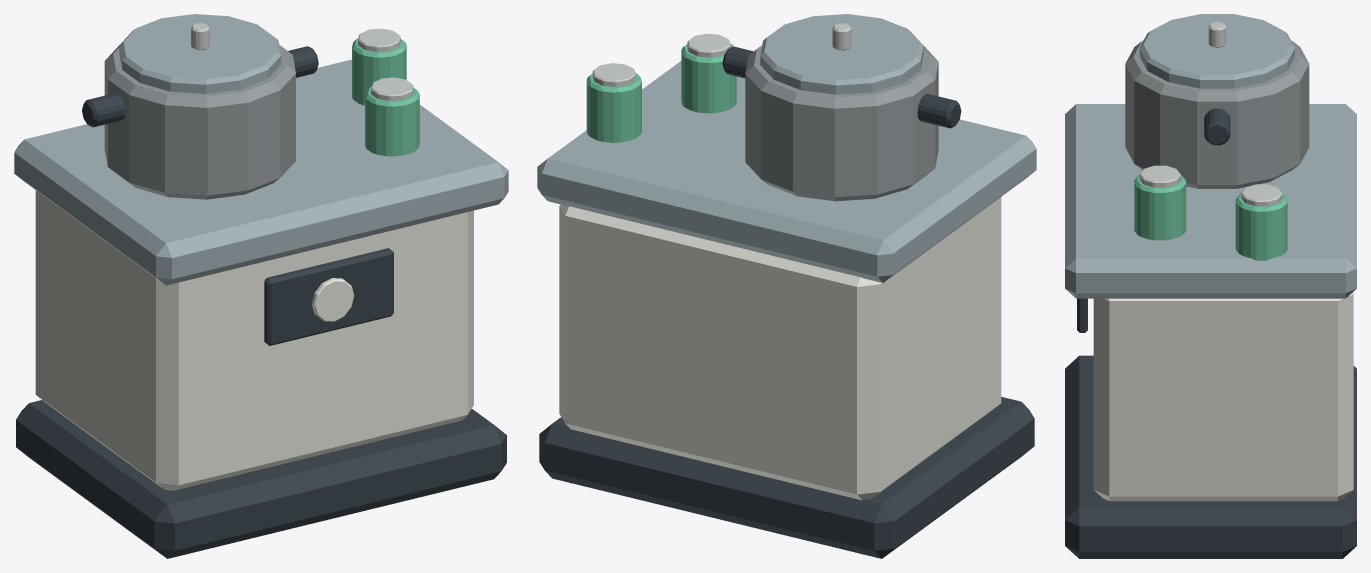
The model's file is CanningStation.glb.
3 renders of one model, left to right at view 1: azimuth 30°, elevation 25°; view 2: azimuth 150°, elevation 25°; view 3: azimuth 270°, elevation 25°, orthographic. The views are drawn at different scales.
Visible parts, largest first — view 1: CanningCabinet, CanningCounter, CanningPlinth, PressureCanner, PressureLid, CanningGauge, CanningJar, CanningJar.001, GaugeDial, CannerHandle, JarLid, JarLid.001 (+1 smaller); view 2: CanningCabinet, CanningCounter, CanningPlinth, PressureCanner, PressureLid, CanningJar.001, CanningJar, CannerHandle, JarLid.001, JarLid, CannerHandle.001; view 3: CanningCabinet, CanningCounter, CanningPlinth, PressureCanner, PressureLid, CanningJar.001, CanningJar, CannerHandle.001, JarLid, JarLid.001, PressureValve, CanningGauge.
Boxes of the visible parts, x1,y1,x2,y2 form: CanningCabinet: (35,190,473,490); CanningCounter: (14,59,508,285); CanningPlinth: (16,400,506,558); PressureCanner: (104,45,295,199); PressureLid: (119,14,281,93); CanningGauge: (264,248,393,345); CanningJar: (365,87,419,156); CanningJar.001: (352,38,406,105); GaugeDial: (312,278,354,321); CannerHandle: (82,93,125,127); JarLid: (371,77,413,100); JarLid.001: (358,28,400,51); CanningCabinet: (559,197,1001,500); CanningCounter: (537,61,1036,282); CanningPlinth: (539,397,1034,558); PressureCanner: (745,45,938,201); PressureLid: (760,14,923,94); CanningJar.001: (586,73,641,142); CanningJar: (681,43,736,113); CannerHandle: (917,94,961,128); JarLid.001: (592,63,635,86); JarLid: (687,33,730,57); CannerHandle.001: (722,46,753,78); CanningCabinet: (1093,292,1353,501); CanningCounter: (1065,104,1356,298); CanningPlinth: (1065,355,1356,558); PressureCanner: (1125,40,1309,188); PressureLid: (1139,14,1294,88); CanningJar.001: (1235,193,1287,260); CanningJar: (1134,175,1186,240); CannerHandle.001: (1204,108,1230,145); JarLid: (1139,165,1180,187); JarLid.001: (1241,184,1282,206); PressureValve: (1208,22,1225,47); CanningGauge: (1077,298,1087,332).
Bounding box in the file's own units: 1.22 × 1.5 × 0.92.
